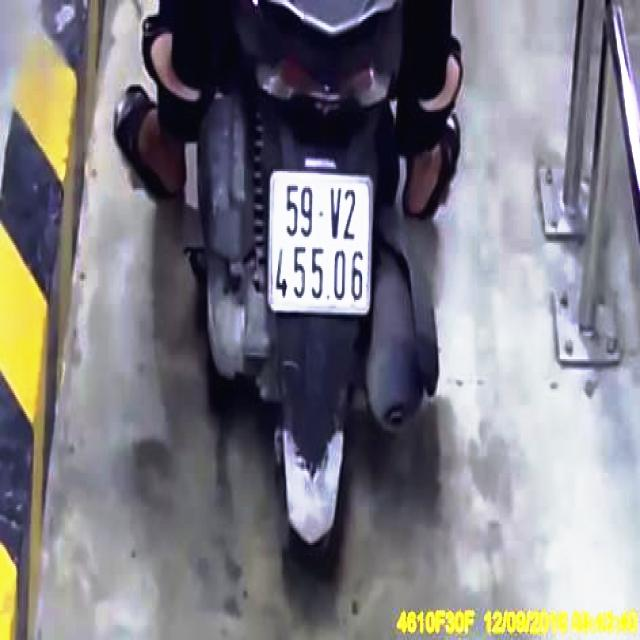license_plate: (269, 172, 374, 313)
